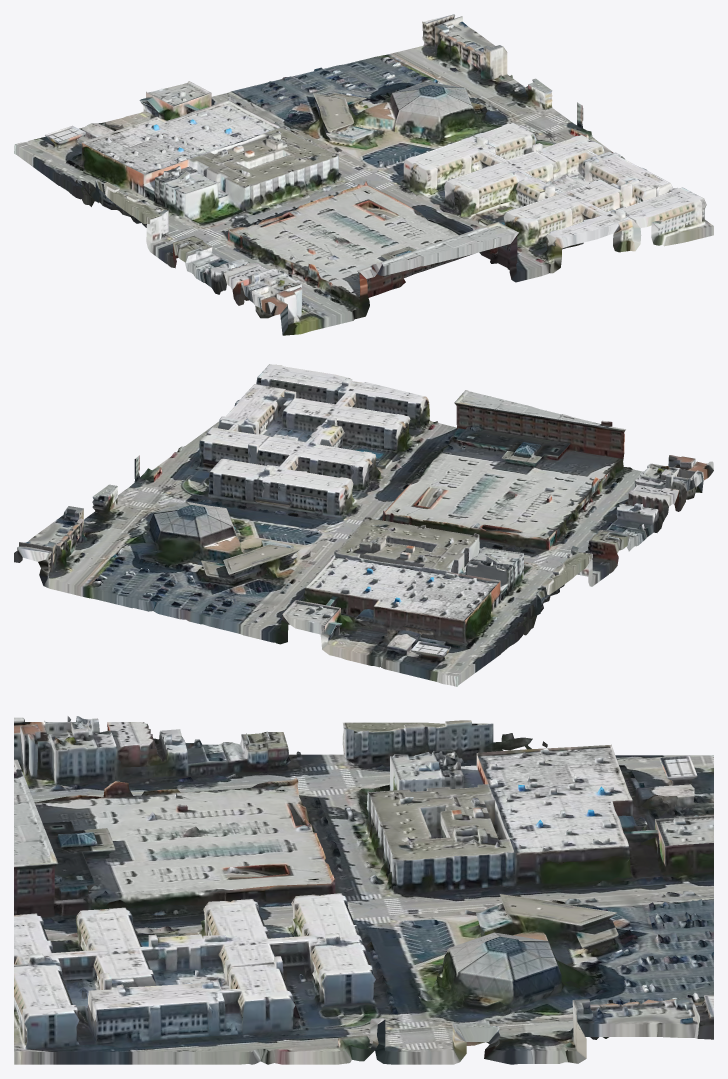
File: z17-20966-50647-h0-yup-uvflip-v3-world.glb
The picture shows the model from 3 angles, top to bottom: view 1: azimuth 30°, elevation 25°; view 2: azimuth 150°, elevation 25°; view 3: azimuth 270°, elevation 25°; orthographic projection. The views are drawn at different scales.
Size of the model in its own units: 242 by 28.16 by 243.
1 material, 1 textured.
